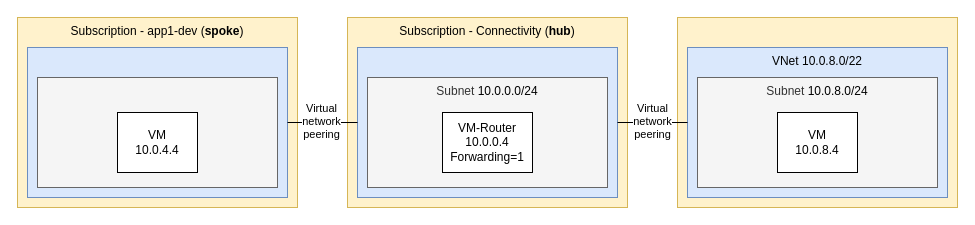
This 975x225 diagram has some shape labels left out. Each missing label, with the box of its shape:
Subnet 10.0.4.0/24: (36, 76, 278, 188)
Subscription - app2-dev ( spoke ): (676, 16, 958, 208)
VNet 10.0.0.0/22: (356, 46, 618, 198)
VNet 10.0.4.0/22: (26, 46, 288, 198)
